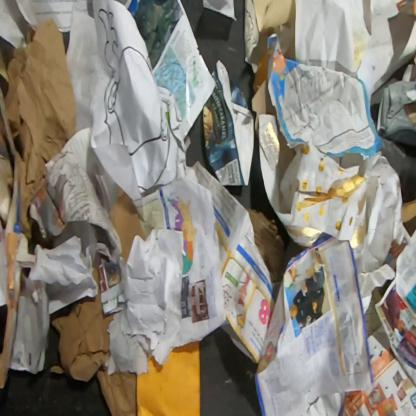cardboard: (49, 259, 137, 416), (203, 57, 255, 186), (244, 208, 308, 284), (110, 185, 147, 264), (400, 81, 415, 243), (251, 78, 277, 138)
rigid_plastic: (379, 137, 415, 179)
